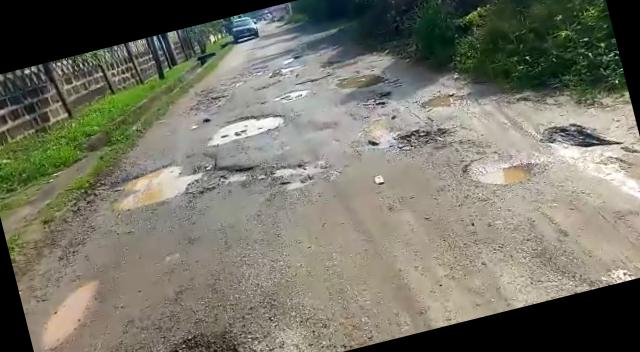pothole: (100, 142, 259, 218), (28, 278, 112, 351), (535, 111, 622, 166), (99, 324, 255, 352), (462, 146, 540, 198), (205, 105, 292, 147), (394, 118, 458, 158), (272, 153, 334, 191), (334, 66, 392, 96), (420, 86, 470, 115), (294, 69, 336, 87), (272, 86, 312, 104)
